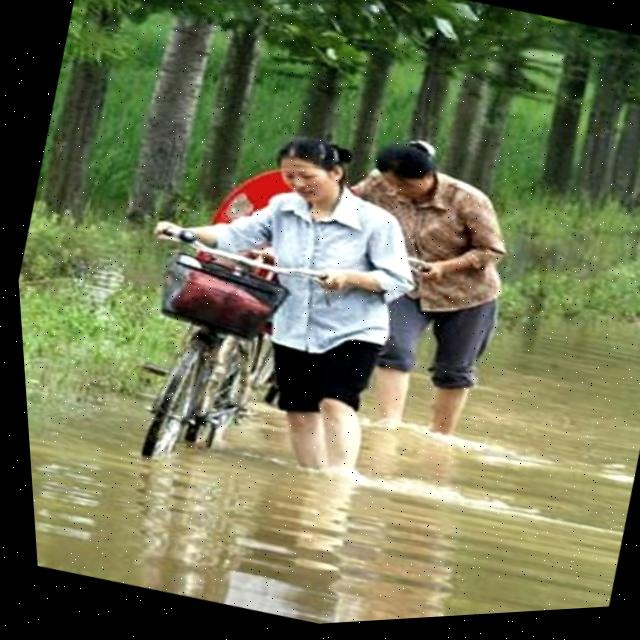civilian: (90, 75, 462, 510), (292, 110, 573, 474)
